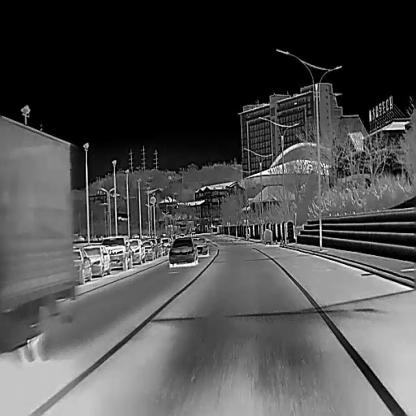car: (101, 235, 133, 271), (82, 244, 111, 276), (168, 236, 197, 266), (72, 246, 92, 284), (128, 237, 146, 264), (192, 236, 209, 255), (142, 239, 155, 259), (154, 237, 163, 257), (160, 236, 172, 250)
truck: (0, 111, 76, 365)
